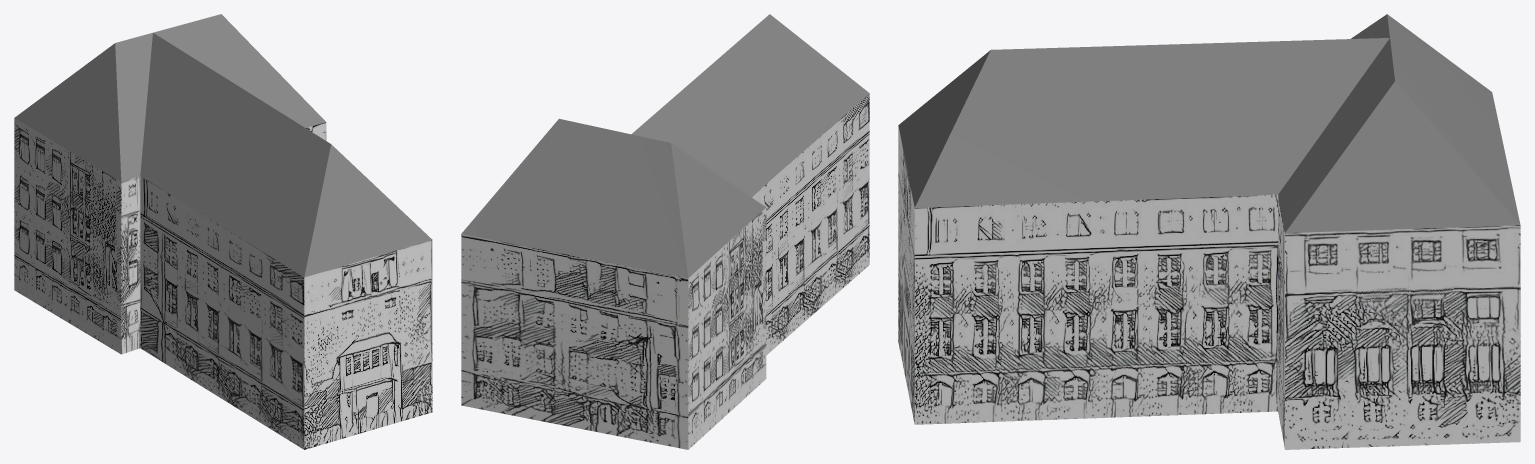
File: Mueller-Bau.gltf
3 views of the same model, side by side, from view 1: azimuth 30°, elevation 25°; view 2: azimuth 150°, elevation 25°; view 3: azimuth 270°, elevation 25° (orthographic). The views are drawn at different scales.
Visible parts, largest first — view 1: Dach.1; view 2: Dach.1; view 3: Dach.1.
Boxes of the visible parts, bbox=[...] form: Dach.1: bbox=[14, 14, 432, 449]; Dach.1: bbox=[461, 14, 869, 449]; Dach.1: bbox=[898, 14, 1520, 449].
Bounding box in the file's own units: 22.81 × 25 × 42.55.
Materials: 9 (8 with a texture image).
